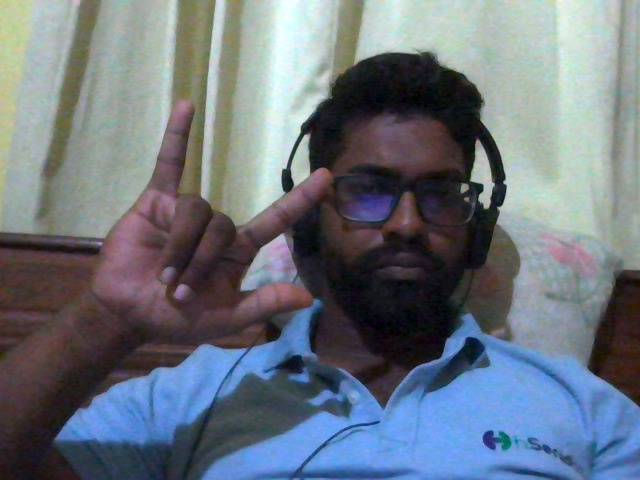I Love You: (75, 82, 349, 368)
